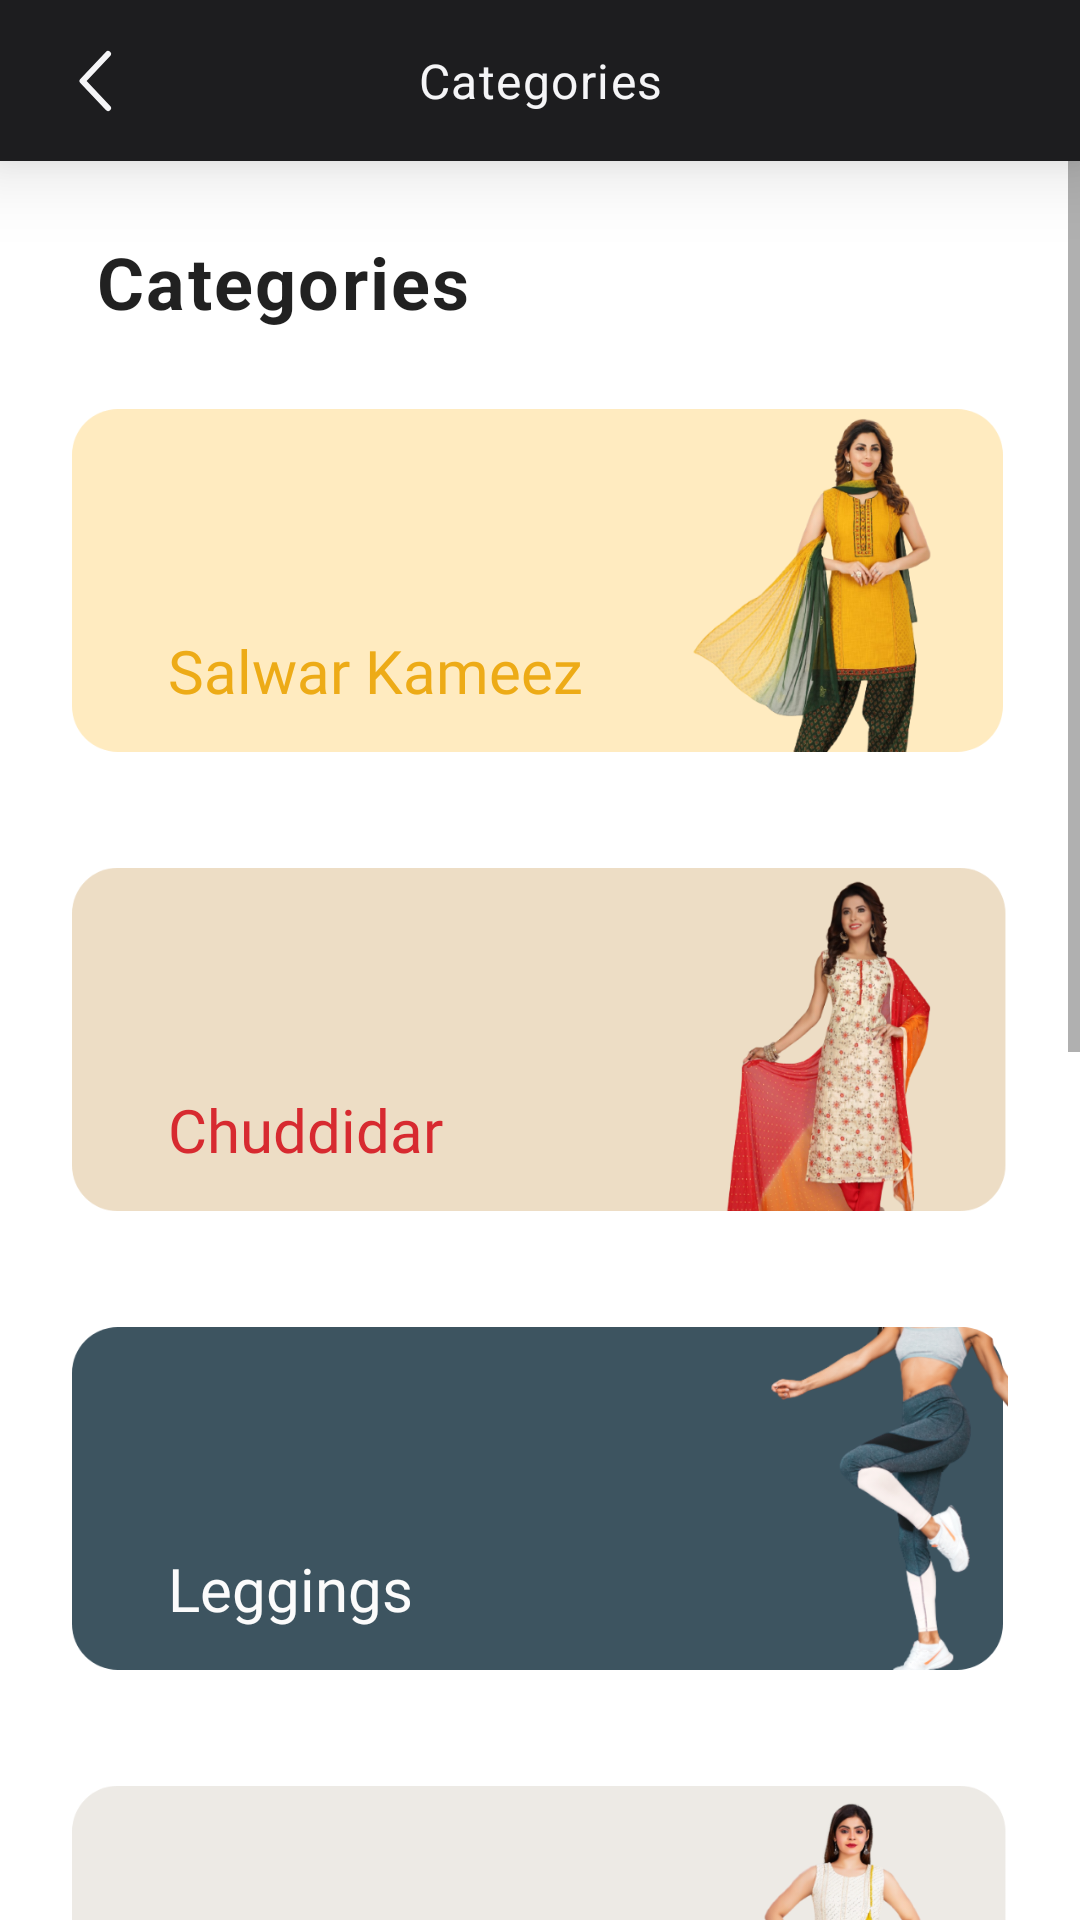

Icon click points for this 1080px x 1920px phone screenshot, format point (x, y):
arrow back: point (95, 81)
